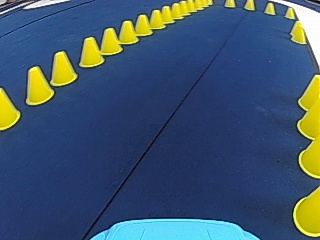cone: (296, 73, 320, 136), (25, 64, 54, 106), (293, 187, 318, 235), (50, 50, 78, 85), (298, 135, 318, 178), (0, 87, 19, 129), (79, 36, 102, 67), (99, 27, 121, 55), (118, 20, 138, 44), (290, 20, 306, 43), (135, 14, 152, 35), (149, 10, 164, 29), (160, 5, 173, 23), (171, 3, 183, 19), (264, 2, 275, 15), (285, 6, 295, 19), (179, 1, 188, 15), (244, 0, 255, 11), (224, 0, 235, 8), (187, 0, 195, 11)
